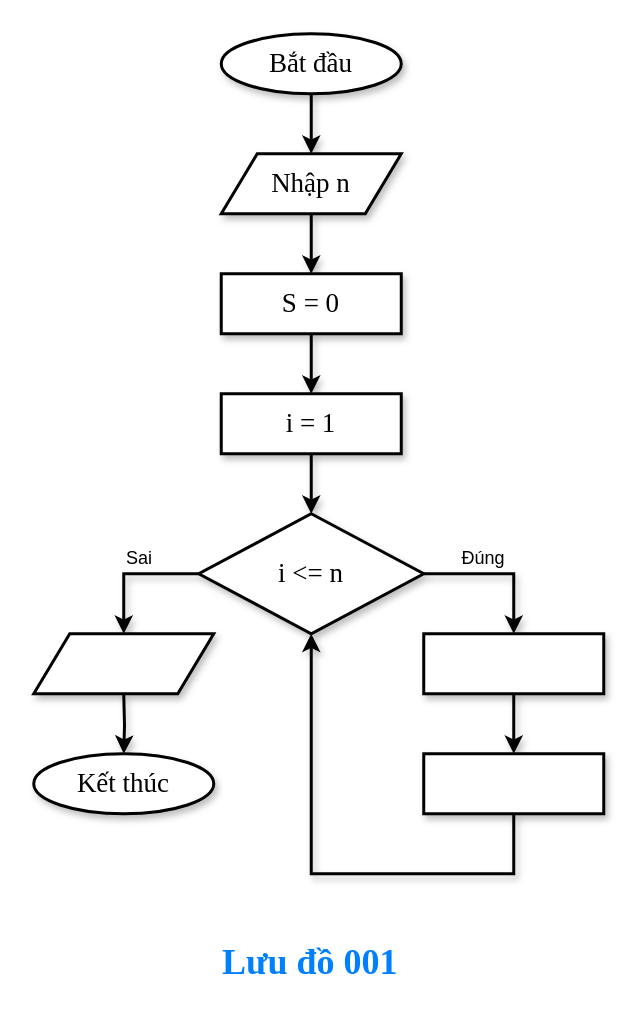
The diagram is 639 pixels wide and 1029 high, and some of its shapes have lost their labels. The shapes that lost their labels are listed below. From the top down, each one's centre as x and y in pixels, then its label:
At (x=125, y=665): "Xuất S".
At (x=515, y=665): "S = S + i".
At (x=515, y=785): "i++".
